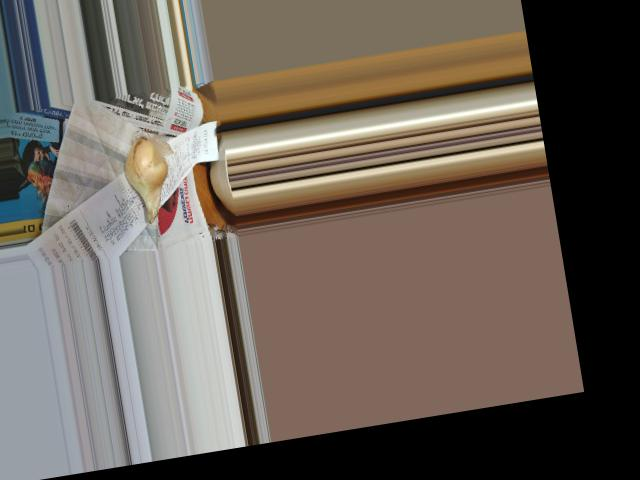onion: (116, 135, 173, 219)
